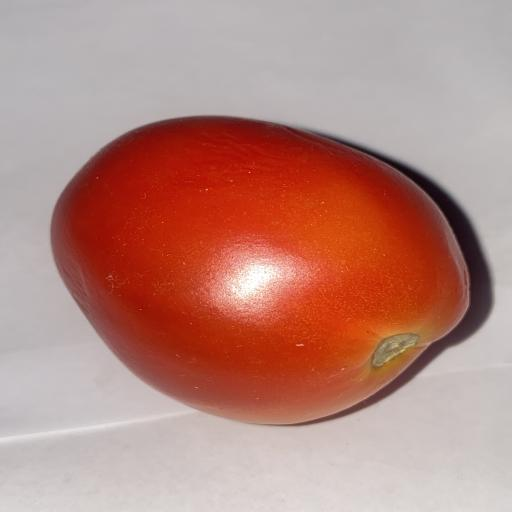ripe: (51, 116, 469, 424)
